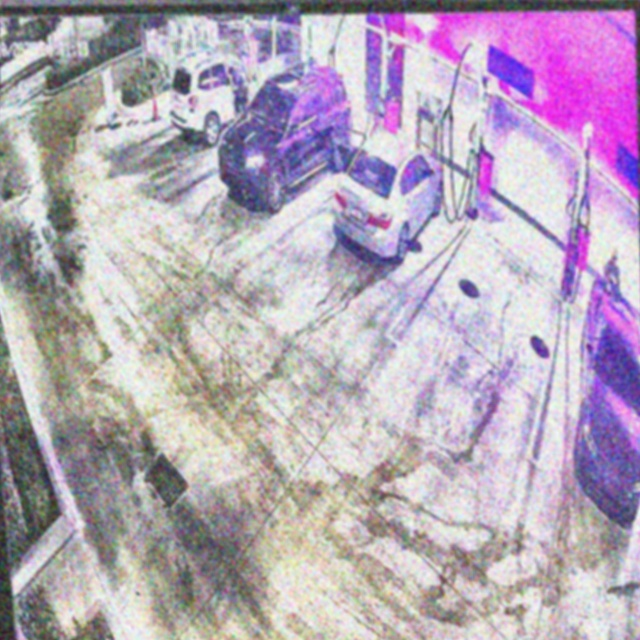Car: (213, 58, 356, 211), (330, 133, 446, 263)
